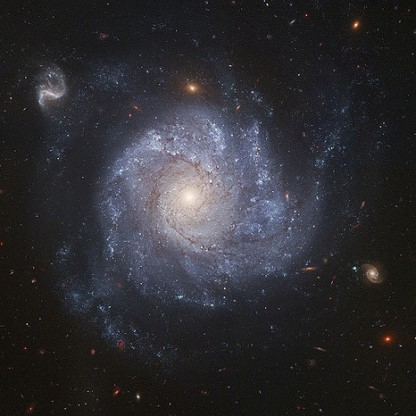NGC 1309: (33, 59, 400, 356)
